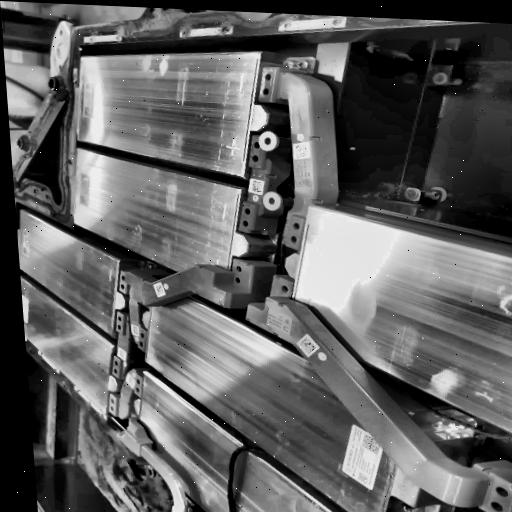battery_module: (147, 278, 404, 512), (135, 370, 334, 512), (77, 50, 262, 177), (75, 147, 241, 287), (18, 209, 122, 337), (21, 277, 113, 419)
busbar: (89, 57, 512, 512)
